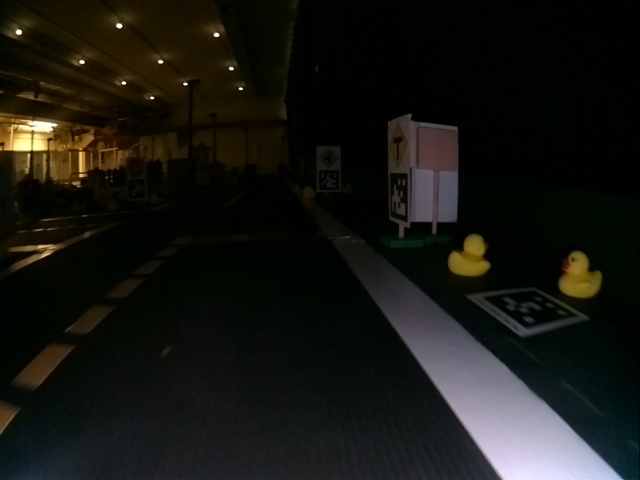Duckie: (558, 250, 600, 295), (447, 238, 485, 278), (304, 186, 316, 200)
Intersection sign: (389, 122, 408, 164), (319, 148, 340, 168)
QR code: (469, 287, 584, 335), (390, 173, 405, 222), (318, 170, 339, 190), (128, 184, 144, 196)
Stop sign: (127, 158, 144, 177)
